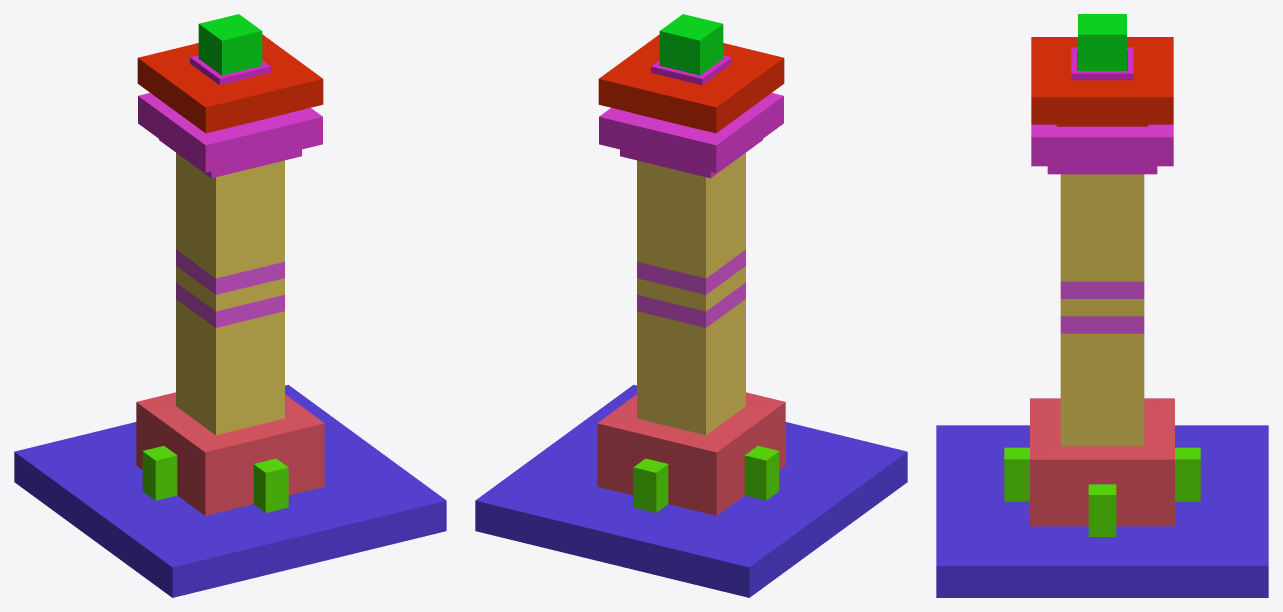
The model's file is sniper_Lv2.fbx.
3 renders of one model, left to right at view 1: azimuth 30°, elevation 25°; view 2: azimuth 150°, elevation 25°; view 3: azimuth 270°, elevation 25°, orthographic. The views are drawn at different scales.
Parts seen in each view (by area): view 1: Cube.007; view 2: Cube.007; view 3: Cube.007.
Part boxes in pixels (x1=…): Cube.007: x1=14, y1=14, x2=446, y2=597; Cube.007: x1=475, y1=14, x2=907, y2=597; Cube.007: x1=936, y1=14, x2=1268, y2=597.
Bounding box in the file's own units: 200 × 334 × 200.
